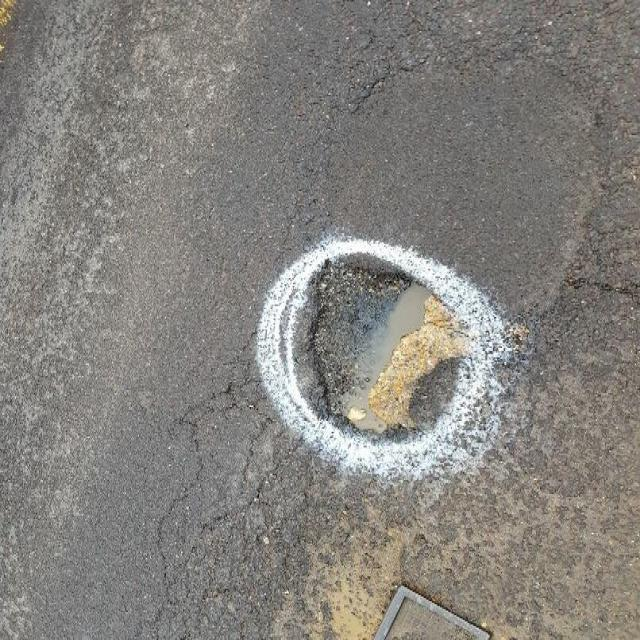pothole: (303, 250, 474, 449)
